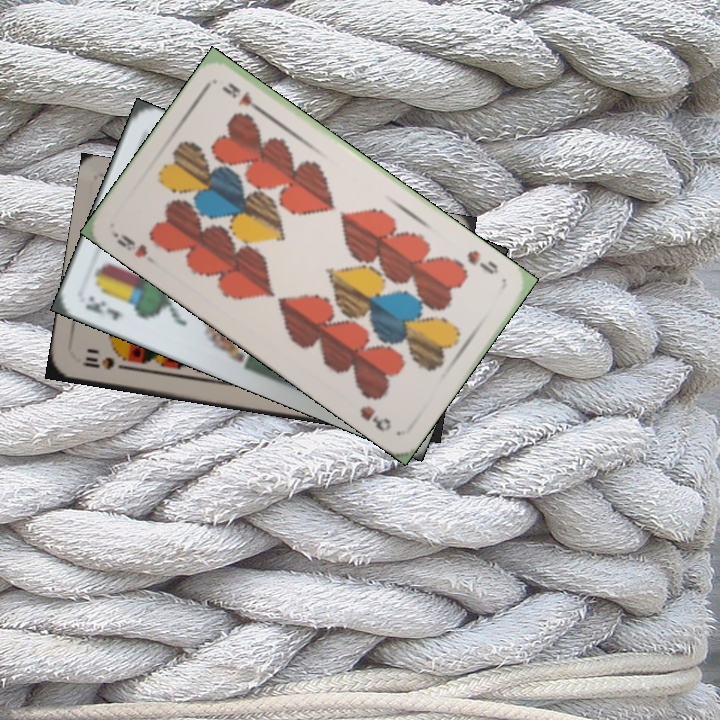EK: (82, 291, 127, 324)
H9: (109, 228, 151, 261), (462, 246, 502, 277)
S10: (78, 352, 132, 373)
